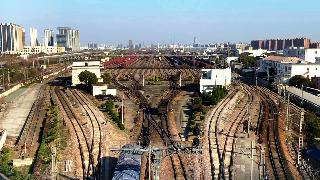train: (157, 99, 170, 115)
